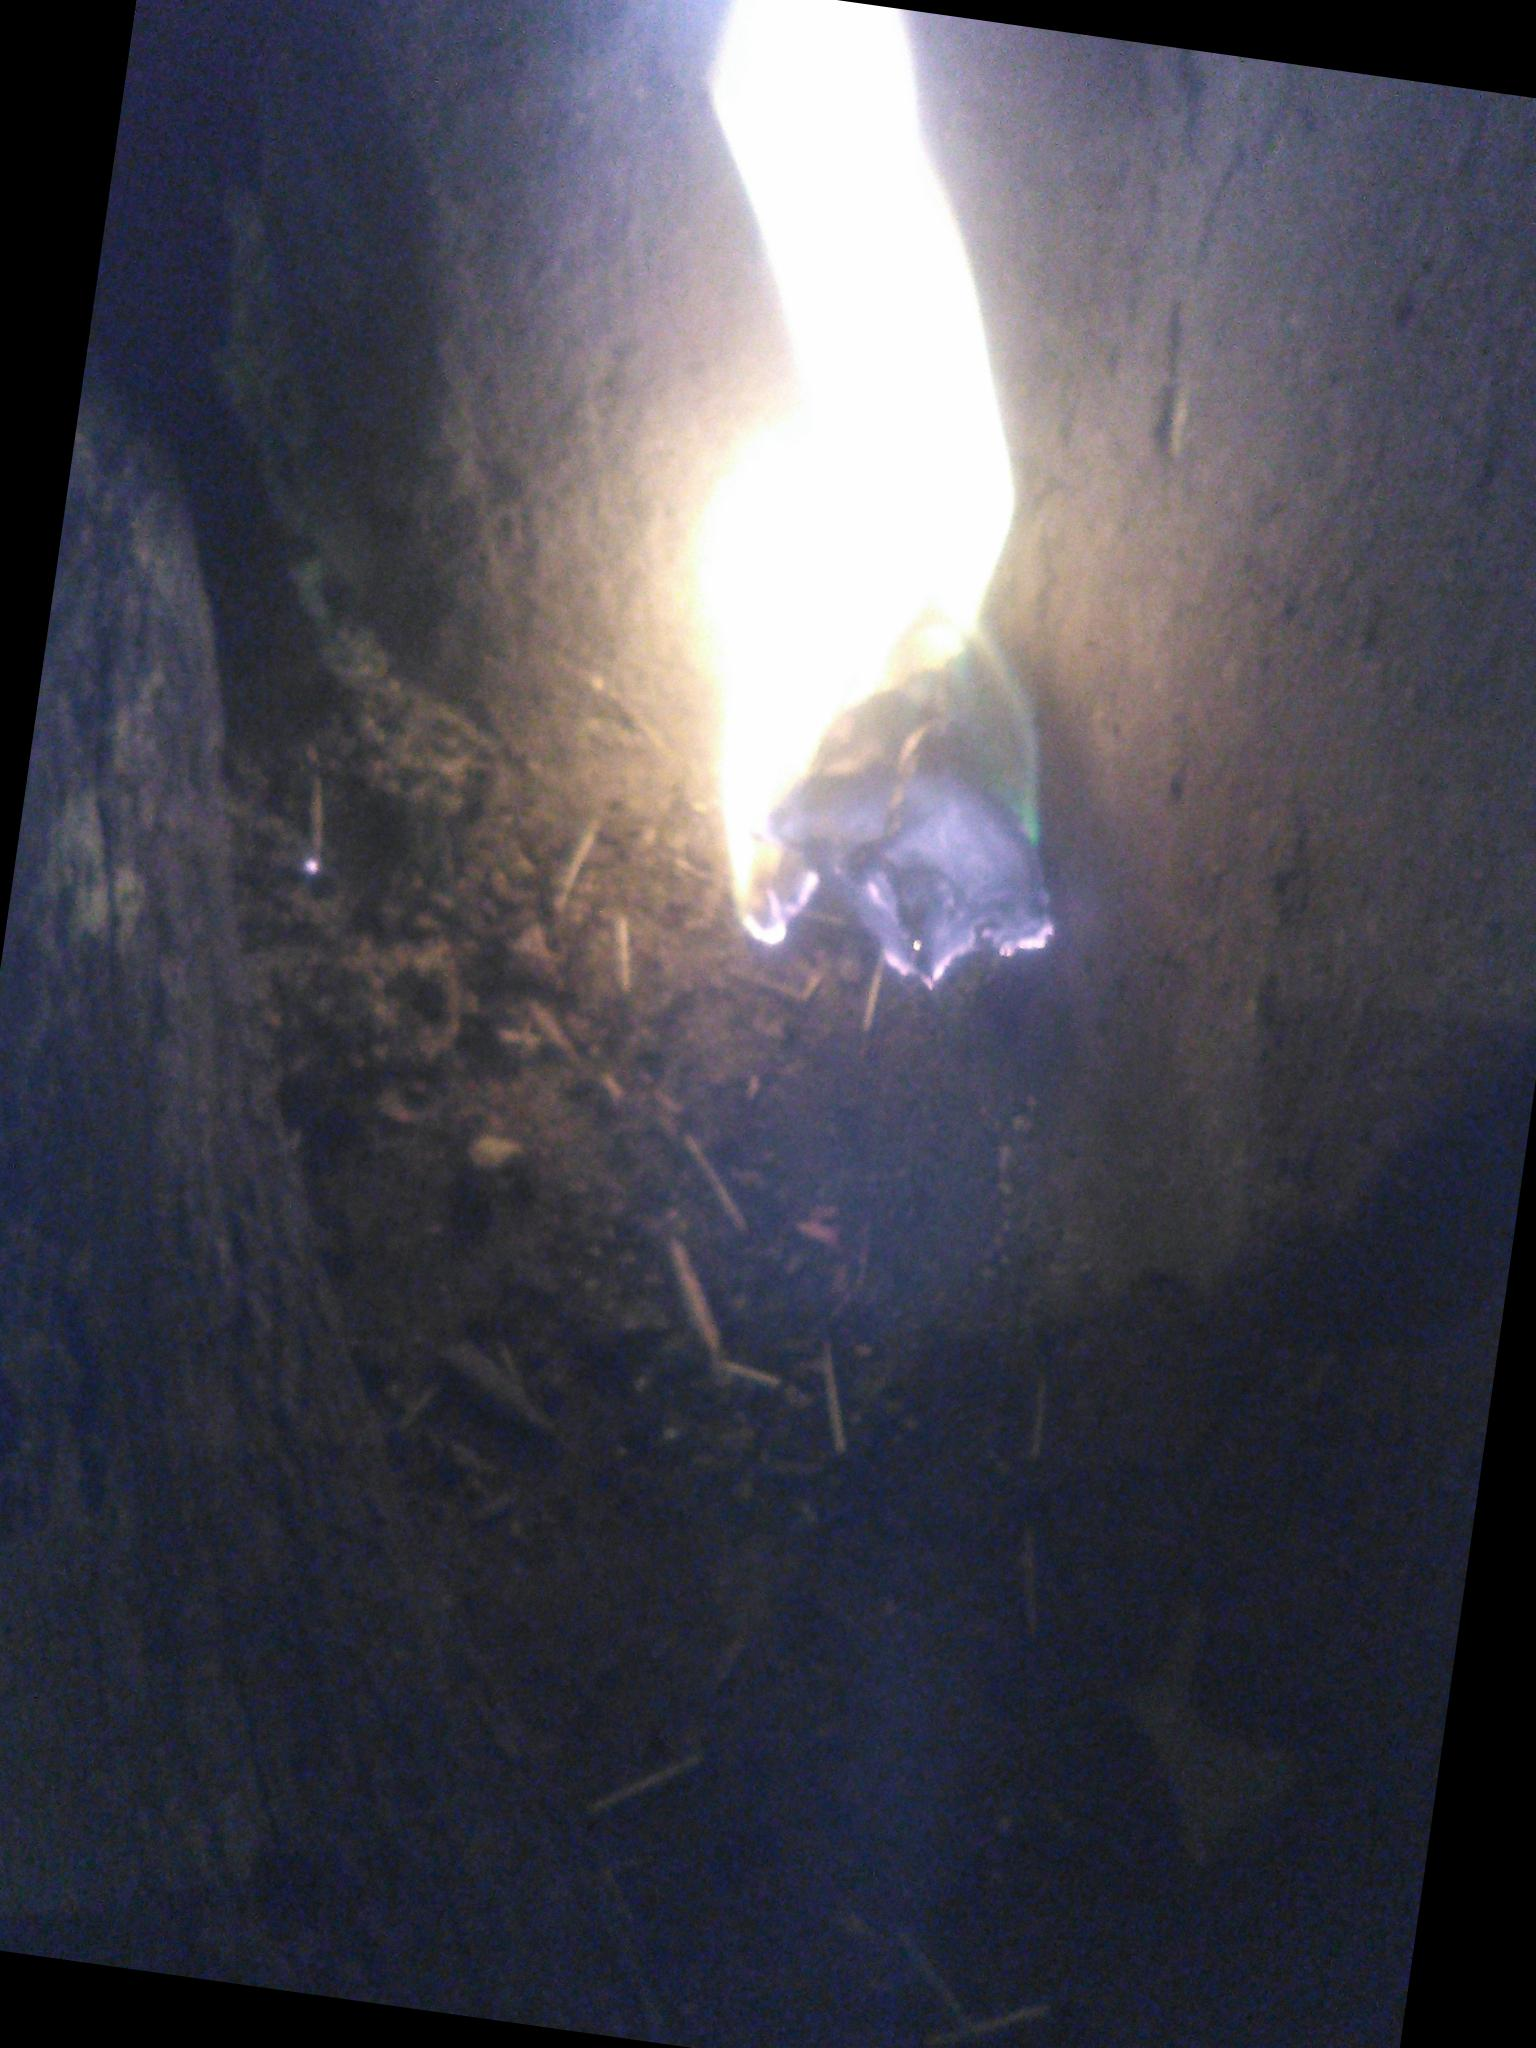Fire: (571, 0, 1187, 1006)
